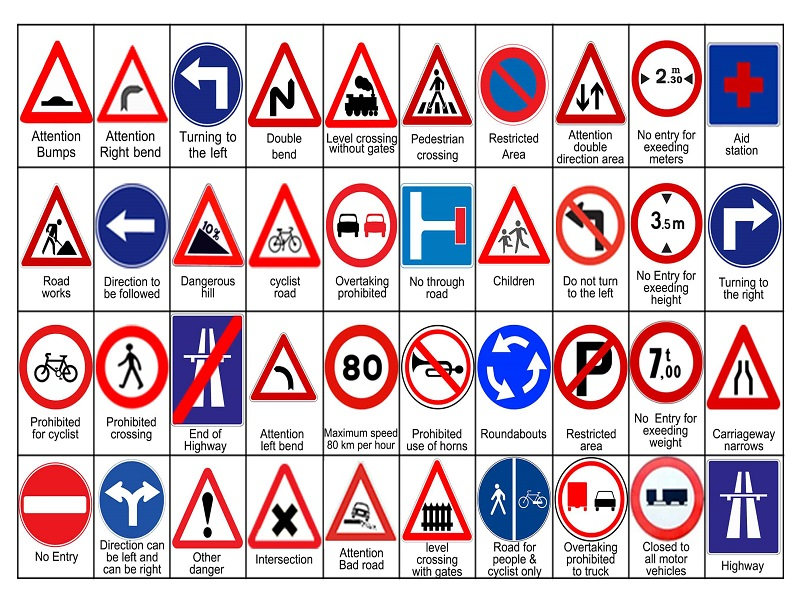sagaDon: (708, 166, 781, 271)
solaDon: (171, 33, 241, 129)
yolCalismasi: (22, 175, 94, 272)
